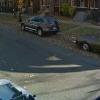Car: (15, 10, 69, 38)
